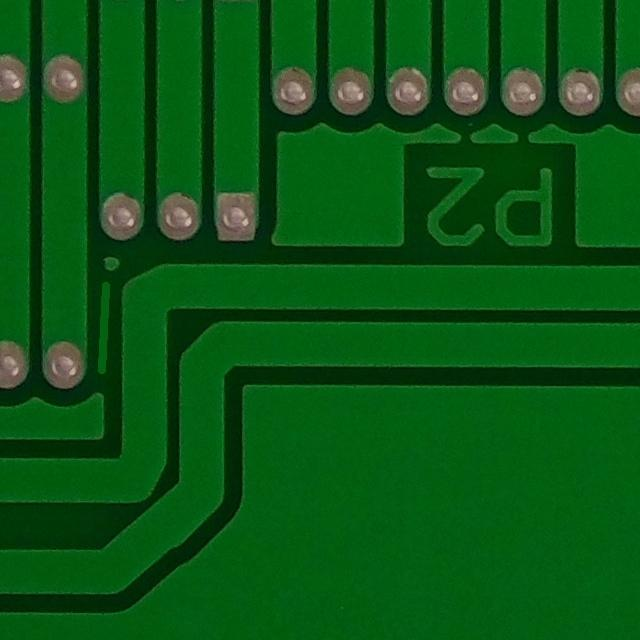spurious_copper: (88, 277, 124, 381)
